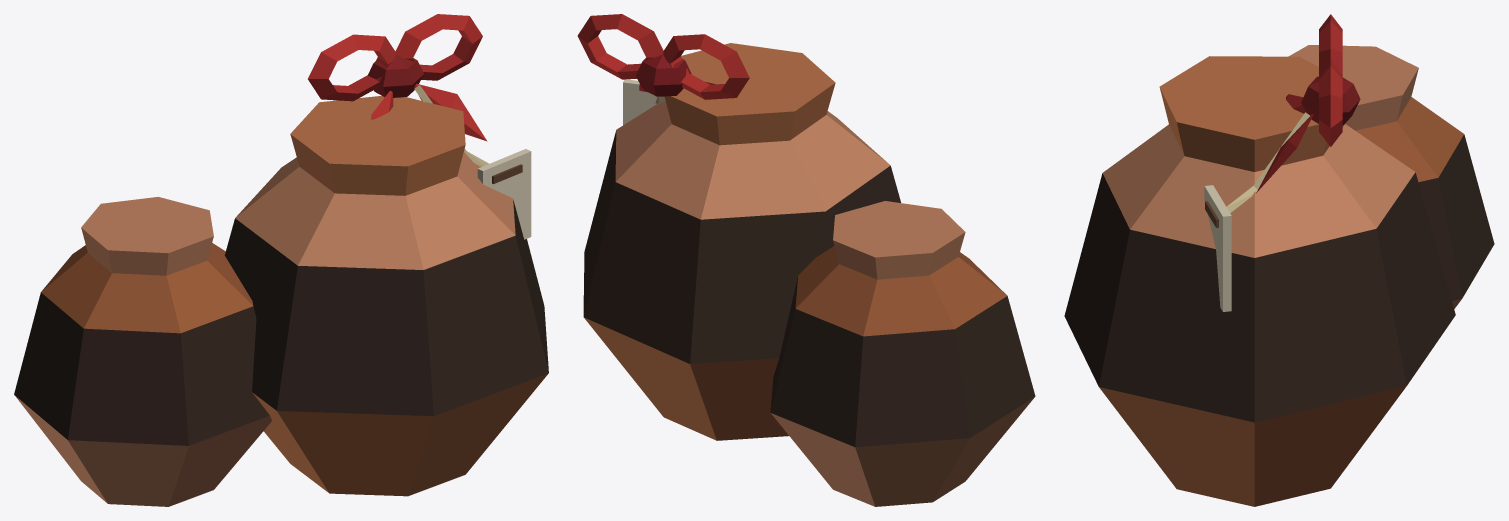
Rendered from quest_painted_pots.glb.
3 views of the same model, side by side, from view 1: azimuth 30°, elevation 25°; view 2: azimuth 150°, elevation 25°; view 3: azimuth 270°, elevation 25° (orthographic). The views are drawn at different scales.
Visible parts, largest first — view 1: quest_painted_pots; view 2: quest_painted_pots; view 3: quest_painted_pots.
Boxes of the visible parts, x1=… form: quest_painted_pots: x1=14, y1=14, x2=548, y2=506; quest_painted_pots: x1=577, y1=14, x2=1035, y2=506; quest_painted_pots: x1=1064, y1=14, x2=1494, y2=506.
Bounding box in the file's own units: 0.4 × 0.3269 × 0.2863.
